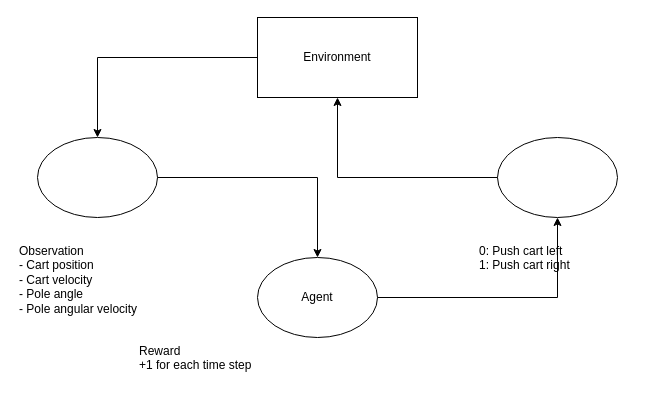
Image size: 654x415. Some labels were removed from this diagram. The box of each missing label's shape, as (x1, y1, x2, y2) in pixels:
Action: (496, 136, 618, 218)
Interpreter: (36, 136, 158, 218)
